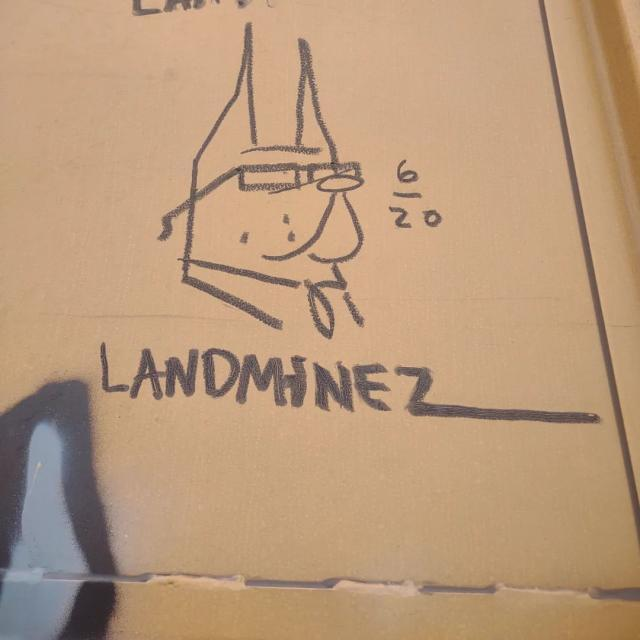-: (85, 4, 619, 444)
